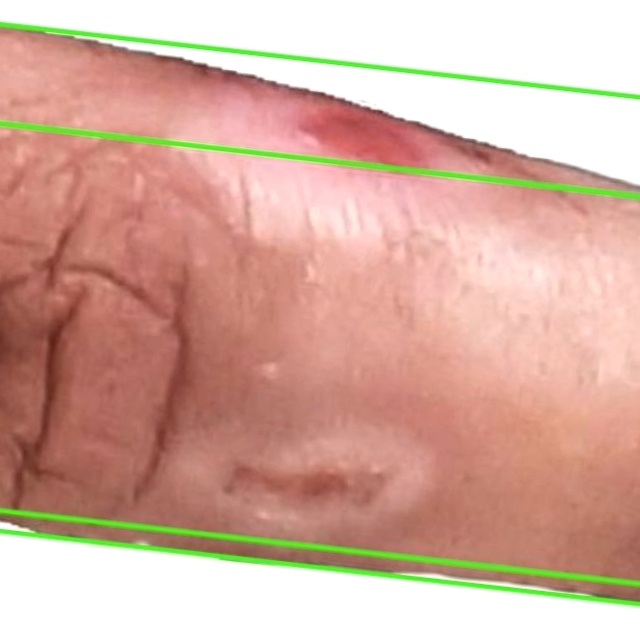Atopic Dermatitis: (0, 24, 639, 604), (0, 0, 639, 196)
